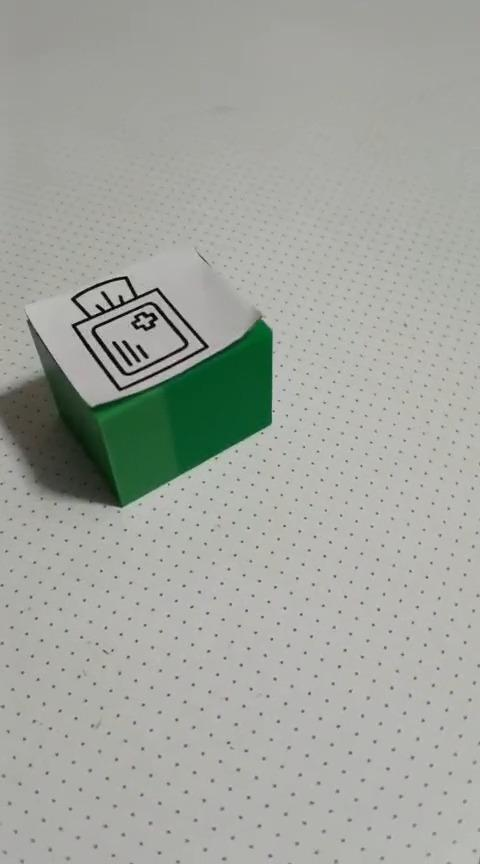Gauze: (23, 243, 273, 507)
